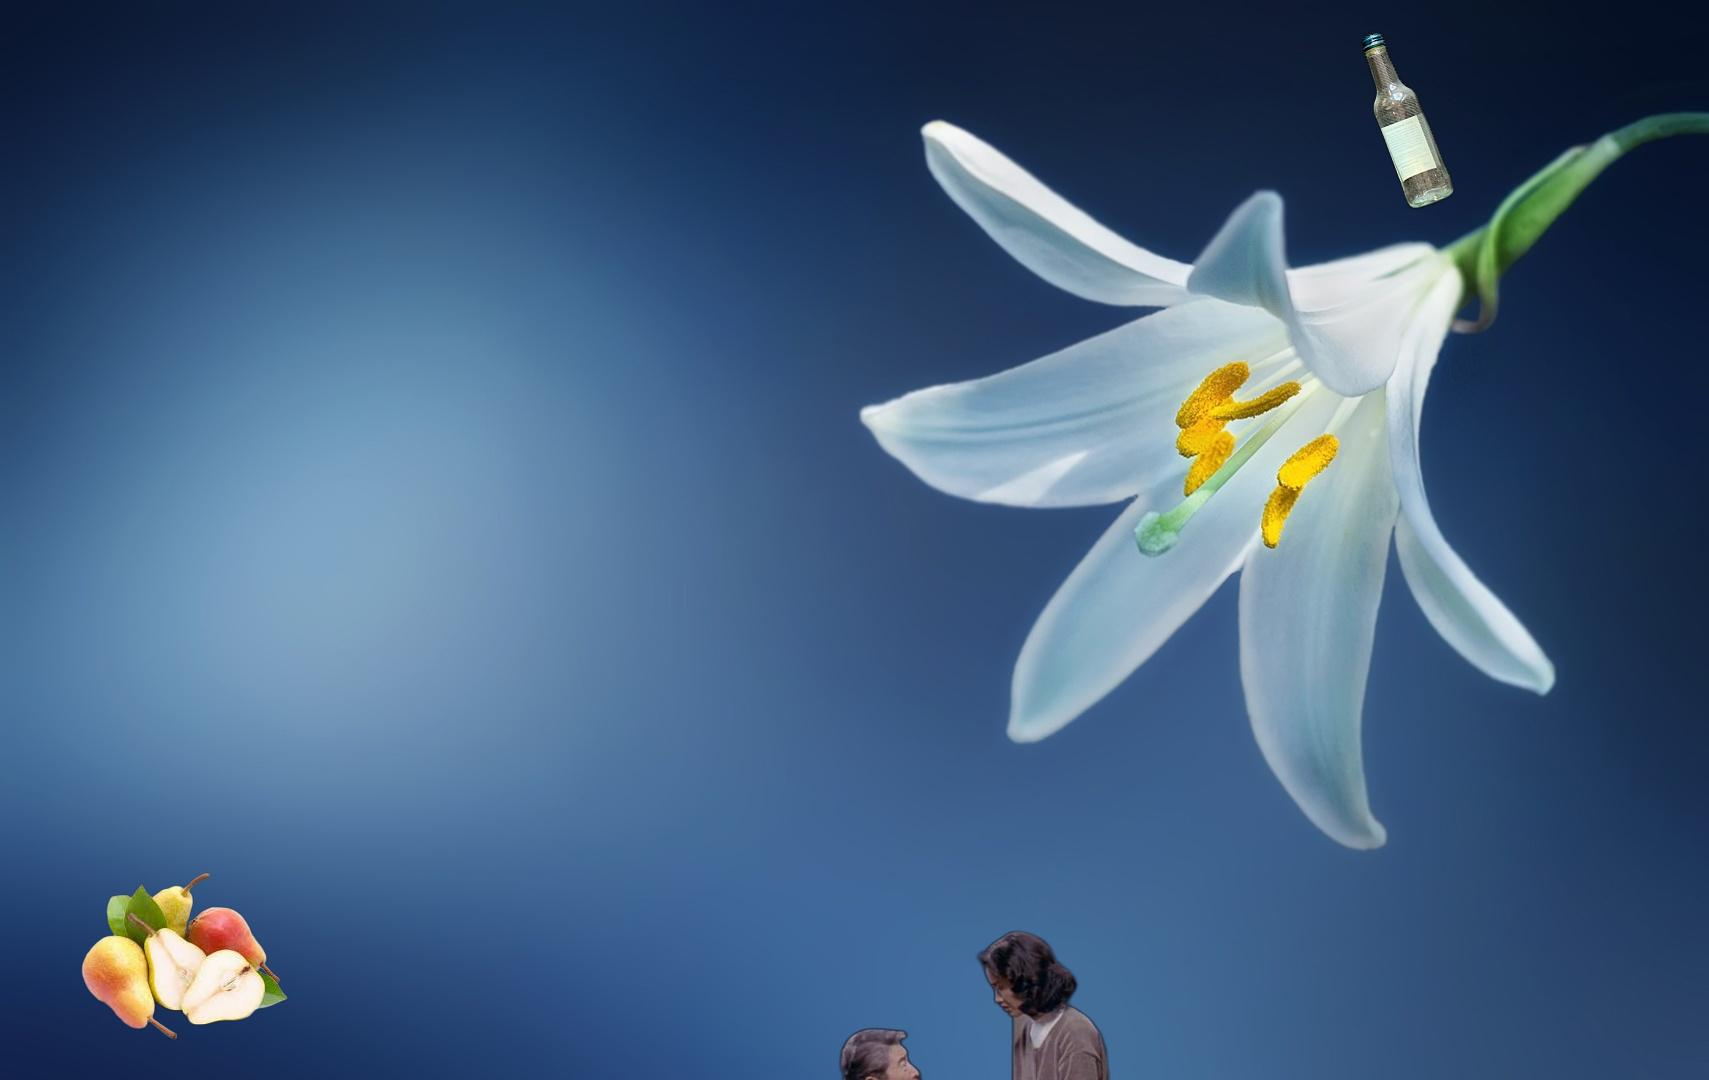biological: (675, 928, 1316, 1080), (80, 870, 291, 1040)
glass: (1356, 27, 1459, 215)
penholder: (1534, 1076, 1709, 1080)
